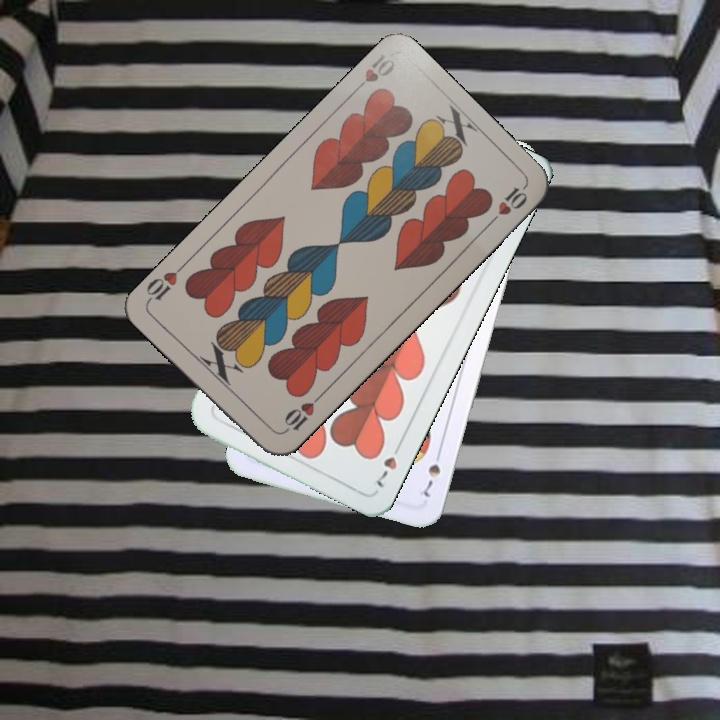H10: (347, 49, 399, 97), (277, 391, 324, 437)
H7: (369, 437, 405, 491)
S7: (417, 445, 444, 503)
